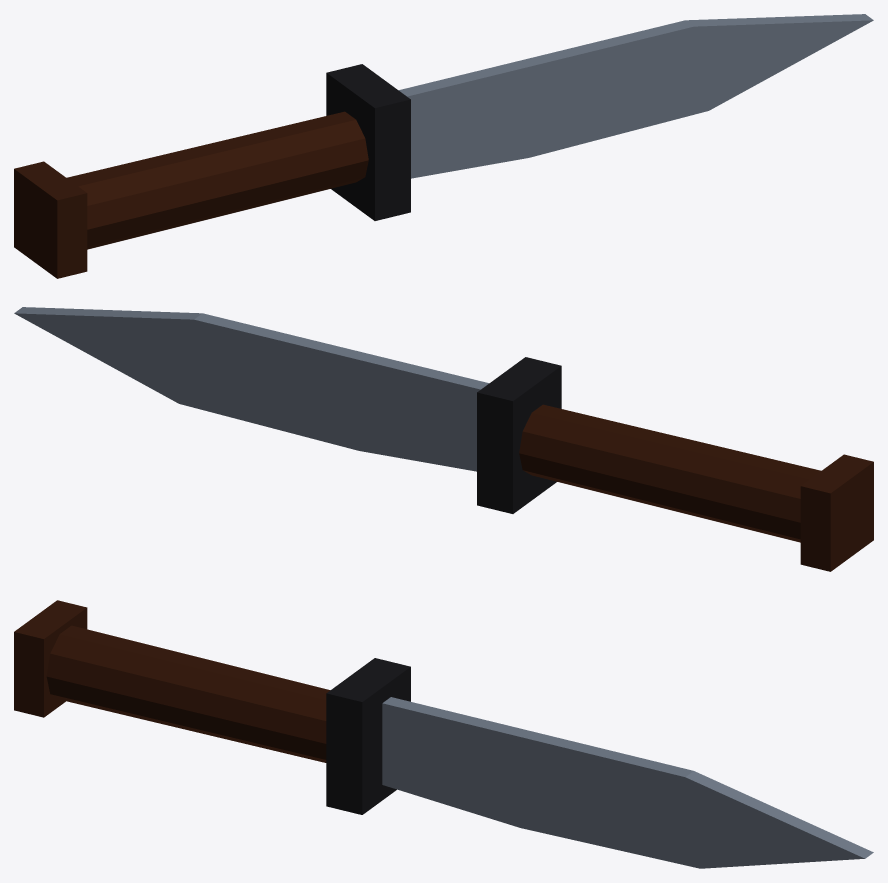
Rendered from SM_Knife.fbx.
3 views of the same model, one above another, from view 1: azimuth 30°, elevation 25°; view 2: azimuth 150°, elevation 25°; view 3: azimuth 330°, elevation 25° (orthographic).
Visible parts, largest first — view 1: SM_Knife; view 2: SM_Knife; view 3: SM_Knife.
Boxes of the visible parts, <box> form: SM_Knife: <box>14,14,873,278</box>; SM_Knife: <box>14,307,873,571</box>; SM_Knife: <box>14,600,873,868</box>.
Size of the model in its own units: 27.8 by 3.6 by 2.8.
